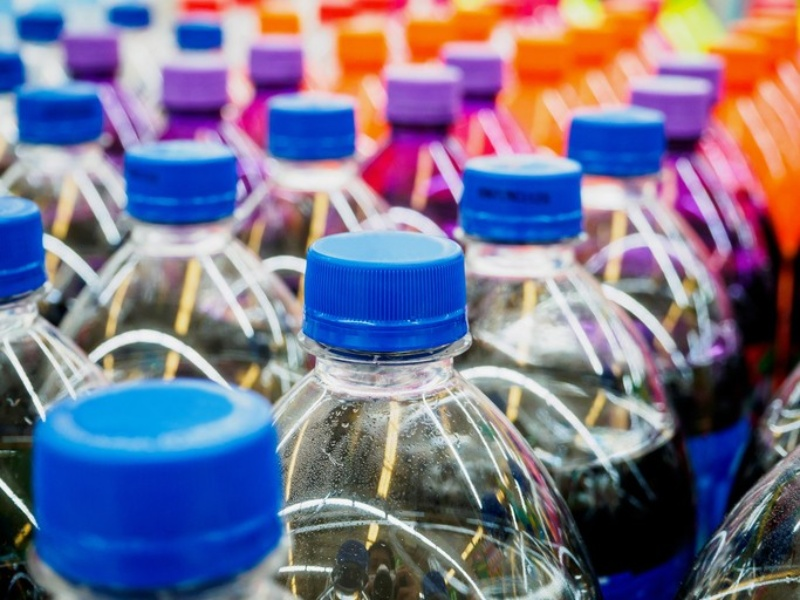Plastic bottle: (220, 229, 609, 600), (406, 142, 719, 593), (21, 352, 319, 600), (57, 154, 324, 423)
